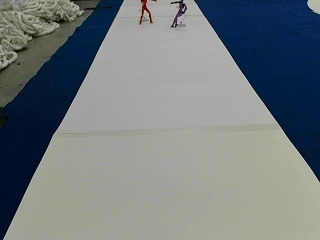pedestrian: (169, 0, 186, 27), (138, 0, 157, 24)
